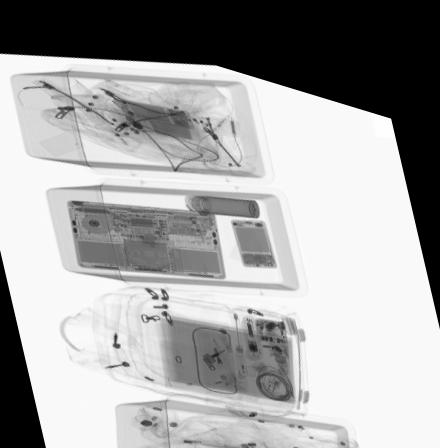Lighter: (235, 337, 246, 364)
